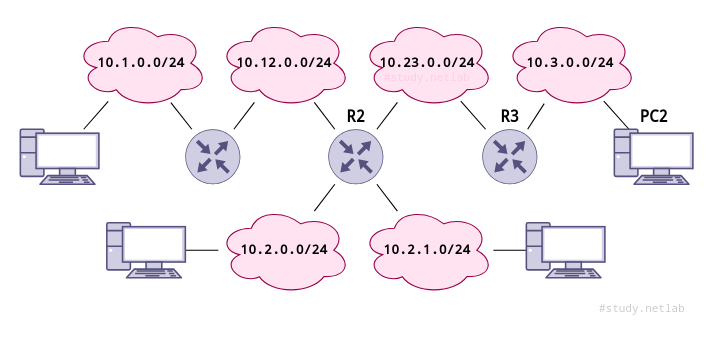
The diagram is 713 pixels wide and 341 high, and some of its shapes have lost their labels. Each missing label, with the centre of its shape:
PC1: [59,156]
PC3: [145,249]
PC4: [565,249]
R1: [212,156]
